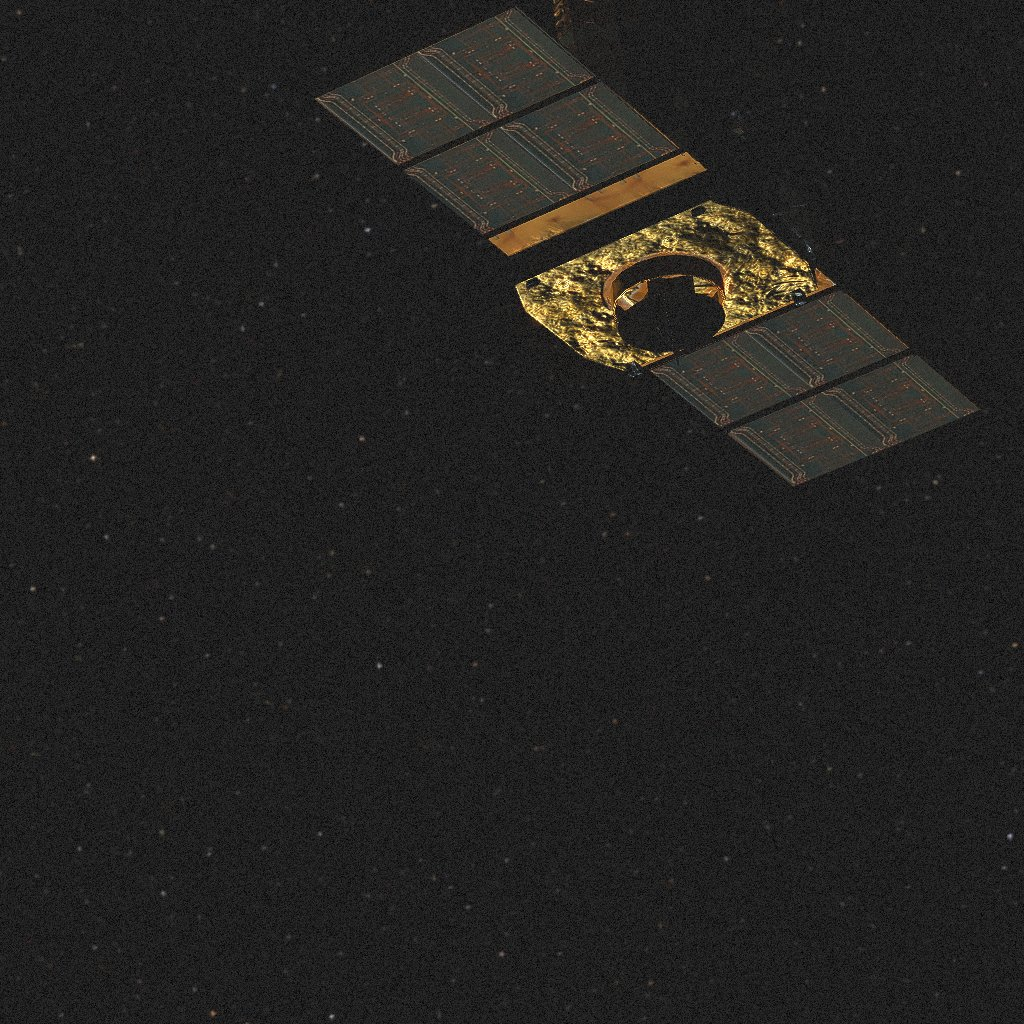soho: (312, 0, 982, 486)
